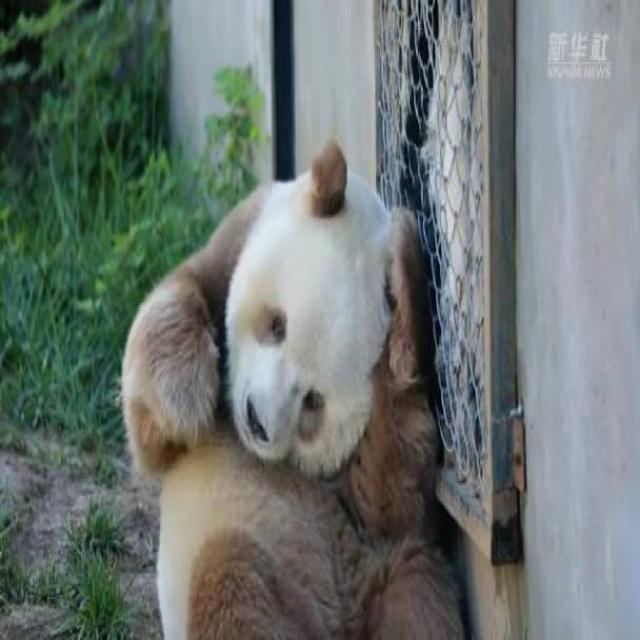panda: (98, 120, 502, 640)
